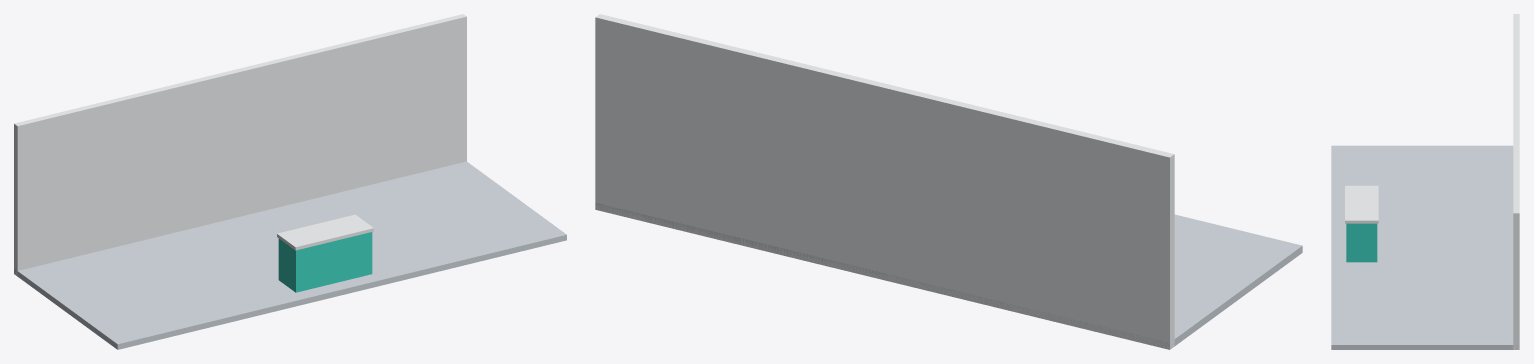
The picture shows the model from 3 angles, left to right: view 1: azimuth 30°, elevation 25°; view 2: azimuth 150°, elevation 25°; view 3: azimuth 270°, elevation 25°; orthographic projection. The views are drawn at different scales.
Parts seen in each view (by area): view 1: Exhibition Booth Concept; view 2: Exhibition Booth Concept; view 3: Exhibition Booth Concept.
Boxes of the visible parts, left/top/right/bottom form: Exhibition Booth Concept: left=14, top=14, right=566, bottom=349; Exhibition Booth Concept: left=595, top=14, right=1302, bottom=349; Exhibition Booth Concept: left=1331, top=14, right=1519, bottom=349.
Bounding box in the file's own units: 10 × 3.2 × 4.
